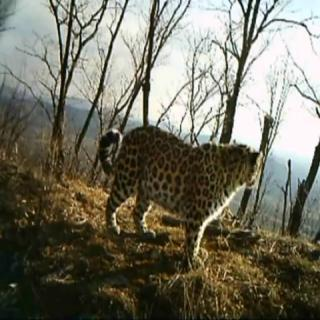Leopard: (81, 98, 267, 281)
